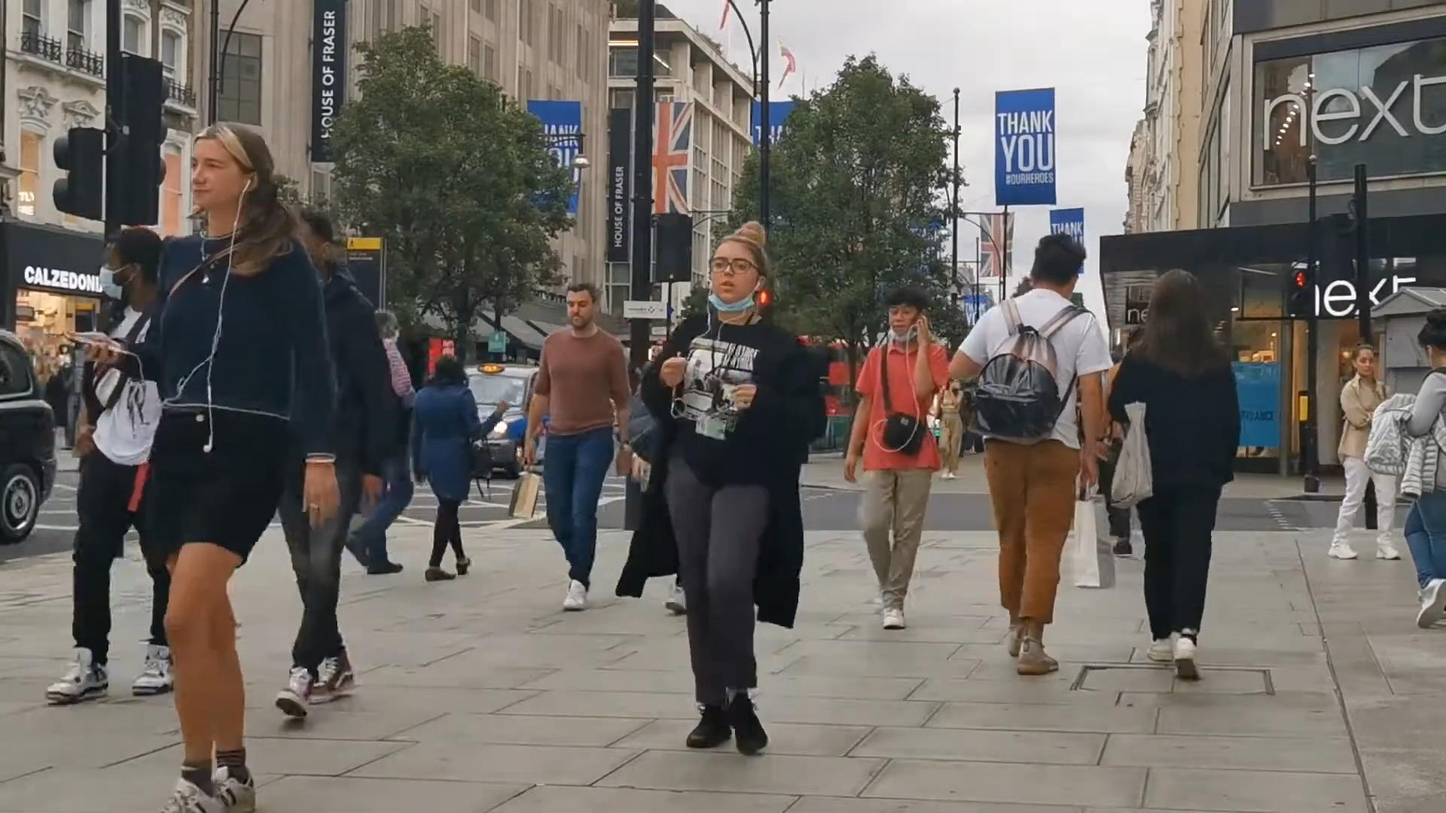no-helmet: (191, 119, 276, 223), (707, 220, 768, 312), (99, 226, 163, 304), (1145, 269, 1210, 339), (1030, 230, 1086, 301), (884, 288, 929, 344), (1417, 309, 1446, 370), (425, 355, 469, 392), (566, 282, 597, 329), (1351, 342, 1374, 377)
